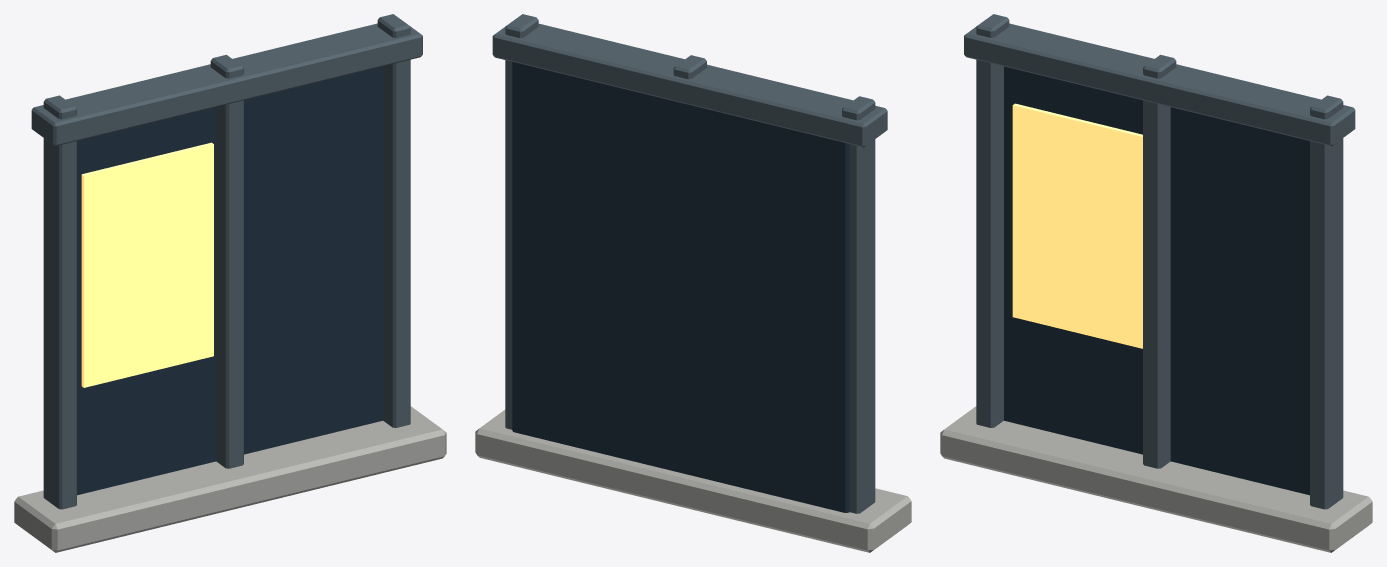
Rendered from environment_window_small_model.glb.
The picture shows the model from 3 angles, left to right: view 1: azimuth 30°, elevation 25°; view 2: azimuth 150°, elevation 25°; view 3: azimuth 330°, elevation 25°; orthographic projection.
Visible parts, largest first — view 1: BH_Window_Small_RenderMesh, BH_Window_Small_LightMesh; view 2: BH_Window_Small_RenderMesh; view 3: BH_Window_Small_RenderMesh, BH_Window_Small_LightMesh.
Boxes of the visible parts, x1,y1,x2,y2 form: BH_Window_Small_RenderMesh: [14, 14, 446, 552]; BH_Window_Small_LightMesh: [81, 142, 213, 387]; BH_Window_Small_RenderMesh: [475, 14, 911, 552]; BH_Window_Small_RenderMesh: [940, 14, 1372, 552]; BH_Window_Small_LightMesh: [1012, 103, 1142, 348].
Size of what is drawn, in the model's own units: 1.42 by 1.47 by 0.26.
